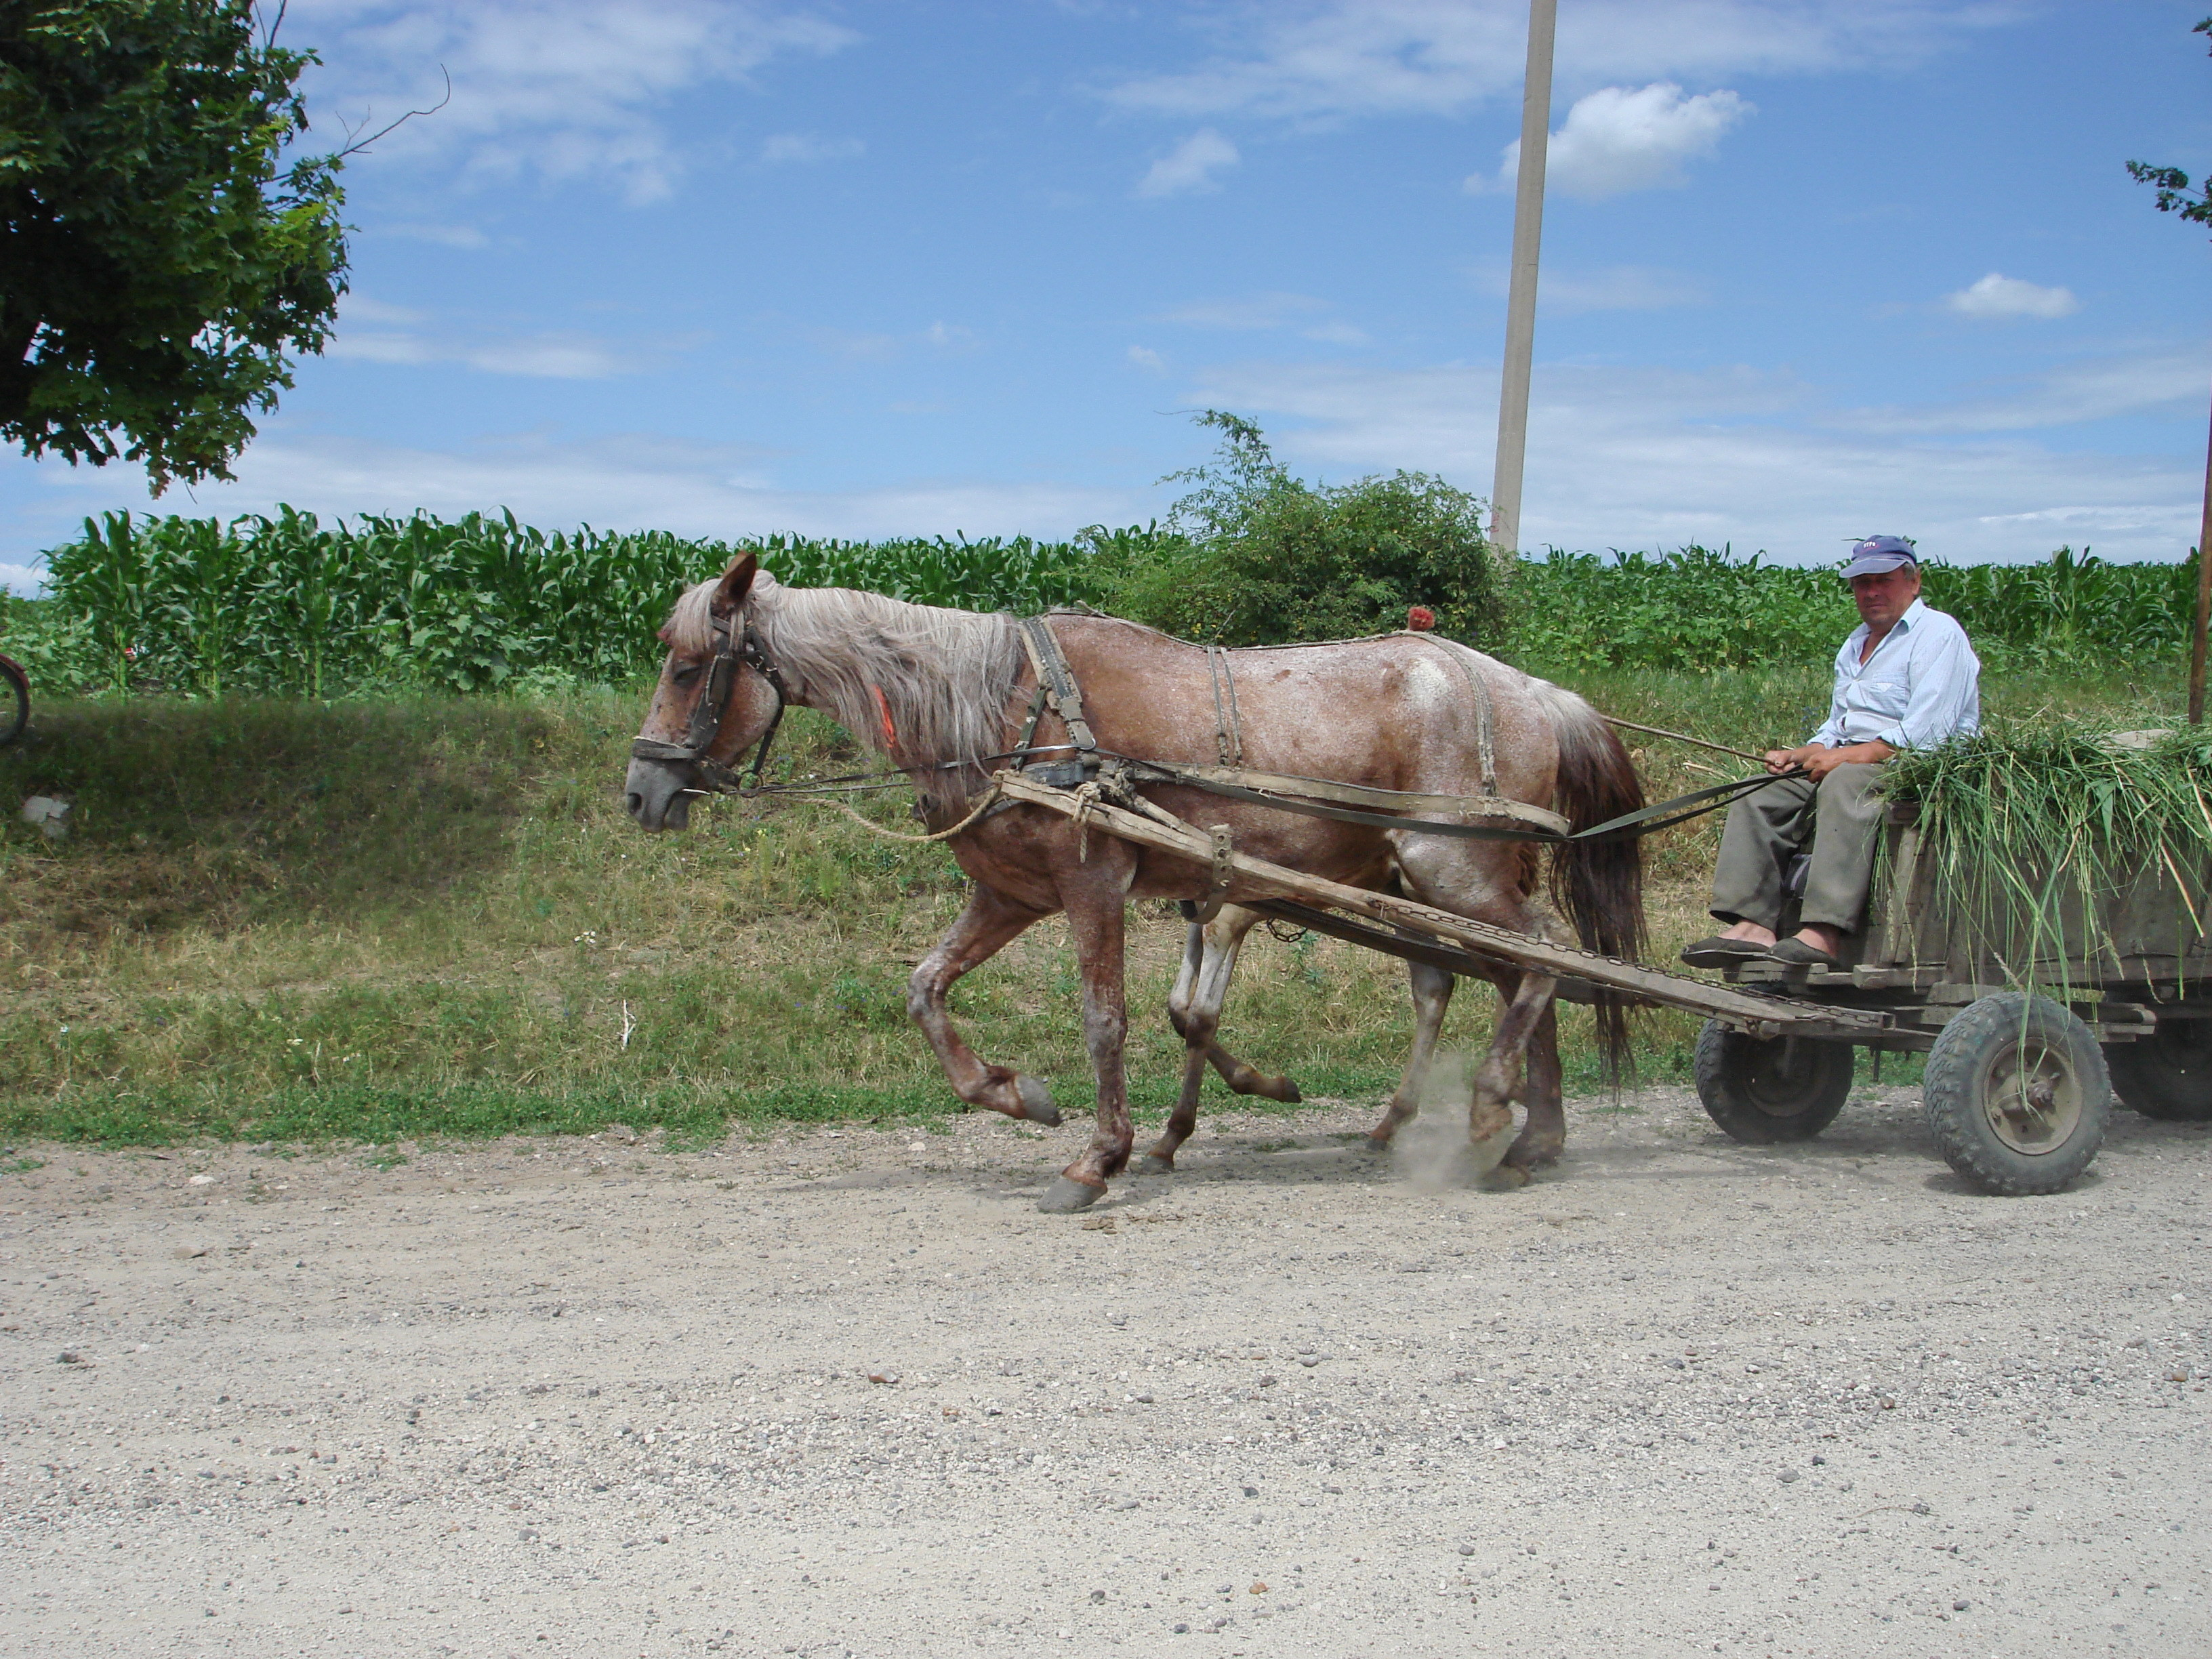horse: (622, 554, 1649, 1215)
